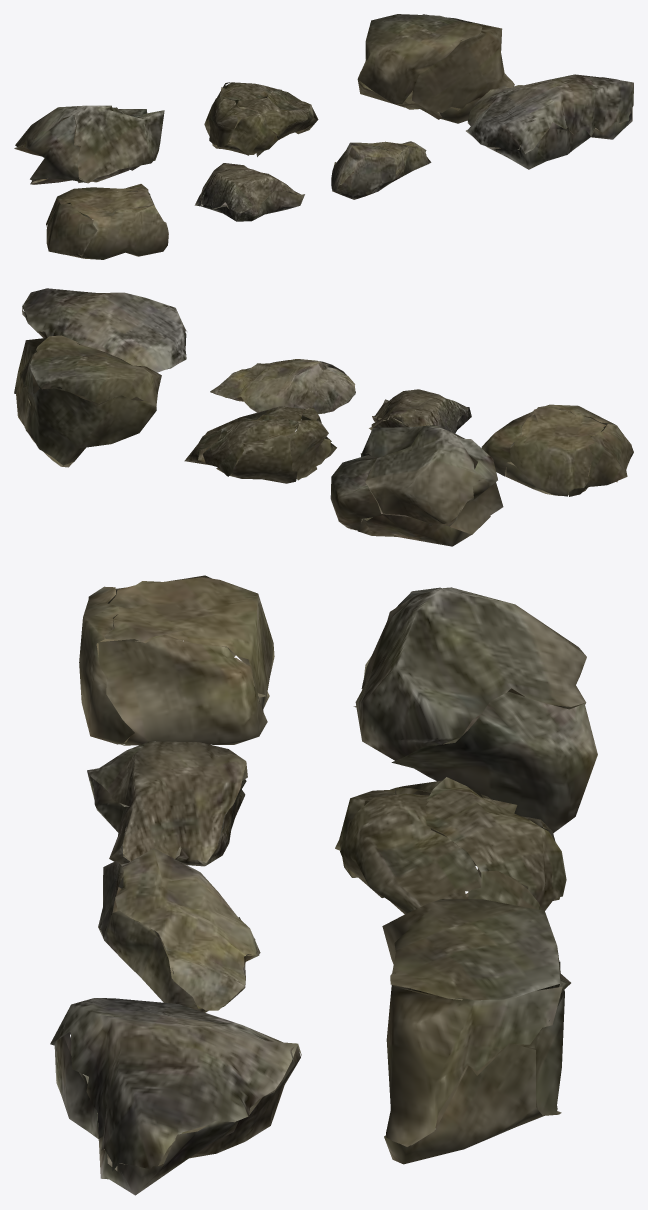
File: rock_moss_set_02.glb
The picture shows the model from 3 angles, top to bottom: view 1: azimuth 30°, elevation 25°; view 2: azimuth 150°, elevation 25°; view 3: azimuth 270°, elevation 25°; orthographic projection. The views are drawn at different scales.
Parts seen in each view (by area): view 1: rock_moss_set_02_rock13, rock_moss_set_02_rock10, rock_moss_set_02_rock11, rock_moss_set_02_rock07, rock_moss_set_02_rock12, rock_moss_set_02_rock08, rock_moss_set_02_rock09; view 2: rock_moss_set_02_rock11, rock_moss_set_02_rock13, rock_moss_set_02_rock07, rock_moss_set_02_rock10, rock_moss_set_02_rock12, rock_moss_set_02_rock09, rock_moss_set_02_rock08; view 3: rock_moss_set_02_rock13, rock_moss_set_02_rock11, rock_moss_set_02_rock10, rock_moss_set_02_rock07, rock_moss_set_02_rock12, rock_moss_set_02_rock09, rock_moss_set_02_rock08.
Boxes of the visible parts, left/top/right/bottom form: rock_moss_set_02_rock13: left=357, top=14, right=514, bottom=123; rock_moss_set_02_rock10: left=466, top=74, right=633, bottom=169; rock_moss_set_02_rock11: left=14, top=105, right=164, bottom=184; rock_moss_set_02_rock07: left=46, top=184, right=168, bottom=259; rock_moss_set_02_rock12: left=204, top=82, right=318, bottom=156; rock_moss_set_02_rock08: left=194, top=163, right=304, bottom=221; rock_moss_set_02_rock09: left=331, top=141, right=431, bottom=199; rock_moss_set_02_rock11: left=330, top=425, right=503, bottom=546; rock_moss_set_02_rock13: left=14, top=335, right=161, bottom=467; rock_moss_set_02_rock07: left=481, top=404, right=633, bottom=496; rock_moss_set_02_rock10: left=22, top=288, right=186, bottom=372; rock_moss_set_02_rock12: left=184, top=406, right=336, bottom=483; rock_moss_set_02_rock09: left=210, top=359, right=355, bottom=414; rock_moss_set_02_rock08: left=369, top=389, right=471, bottom=433; rock_moss_set_02_rock13: left=382, top=899, right=570, bottom=1164; rock_moss_set_02_rock11: left=353, top=587, right=597, bottom=833; rock_moss_set_02_rock10: left=50, top=998, right=301, bottom=1195; rock_moss_set_02_rock07: left=79, top=575, right=274, bottom=745; rock_moss_set_02_rock12: left=335, top=777, right=566, bottom=914; rock_moss_set_02_rock09: left=98, top=848, right=260, bottom=1012; rock_moss_set_02_rock08: left=87, top=741, right=247, bottom=866.
Size of the model in its own units: 8.3 by 1.37 by 3.38.
1 material, 1 textured.
